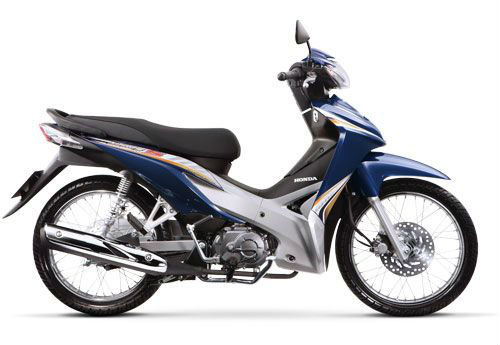motorcycle: (3, 19, 478, 318)
